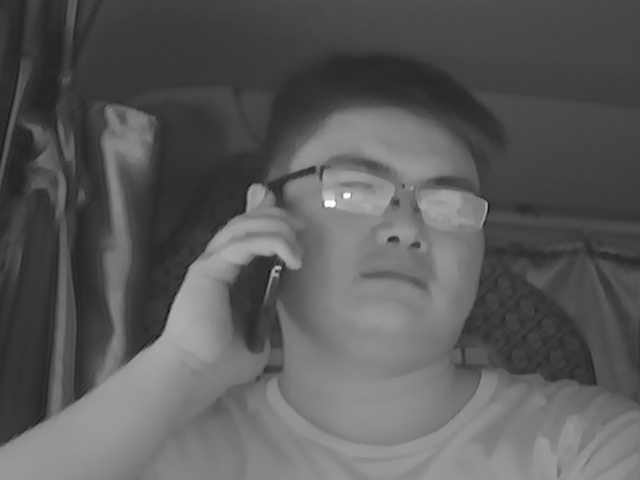hand: (166, 196, 283, 383)
